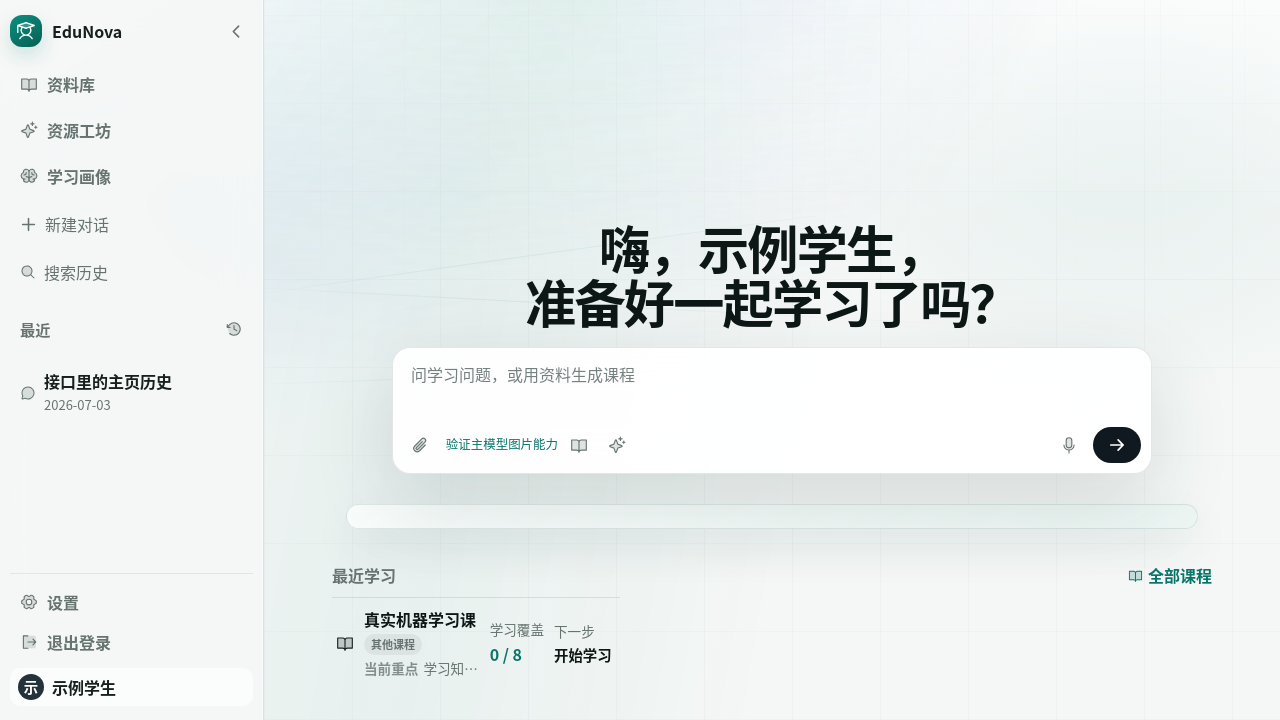
LearningSpacePage › collapses the edge history sidebar without leaving the learning home
Click the button named "收起侧栏" at [236, 31], box [219,14,253,48]
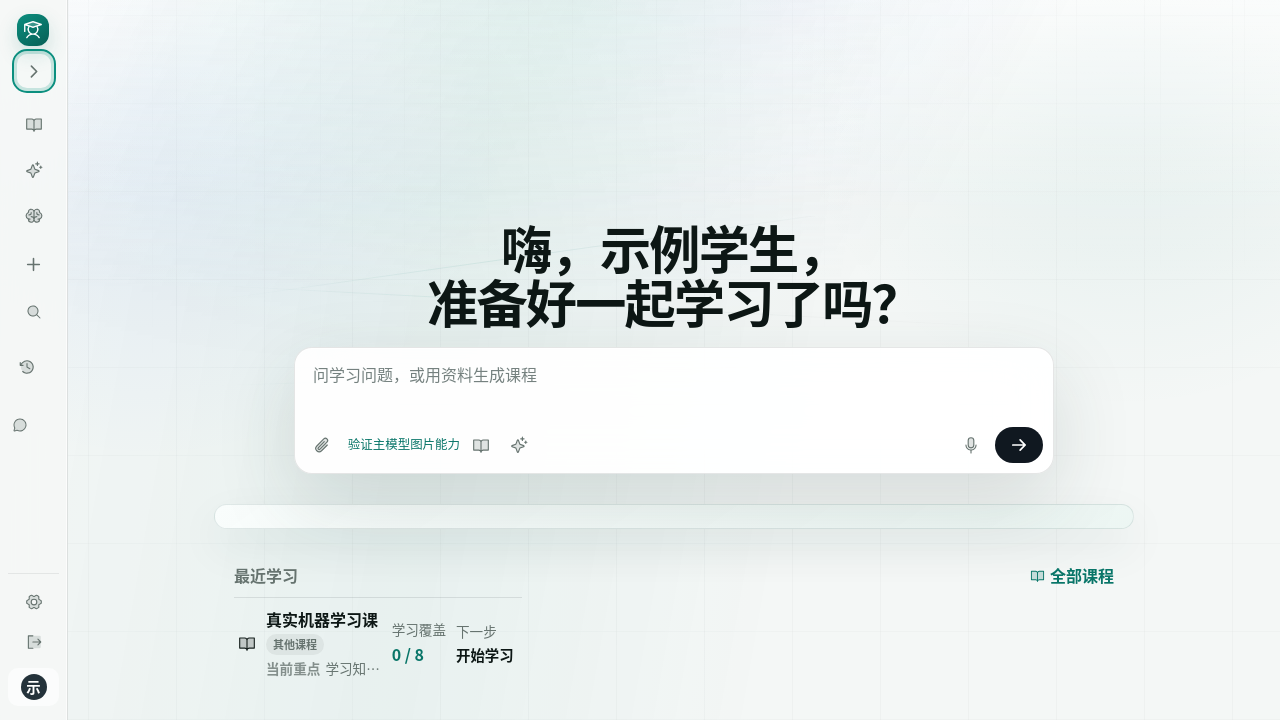
Expected: the element named "AI 学习入口" is shown, [214,210,1134,688]
Expected: the button named "展开侧栏" is shown, [16,54,50,88]
